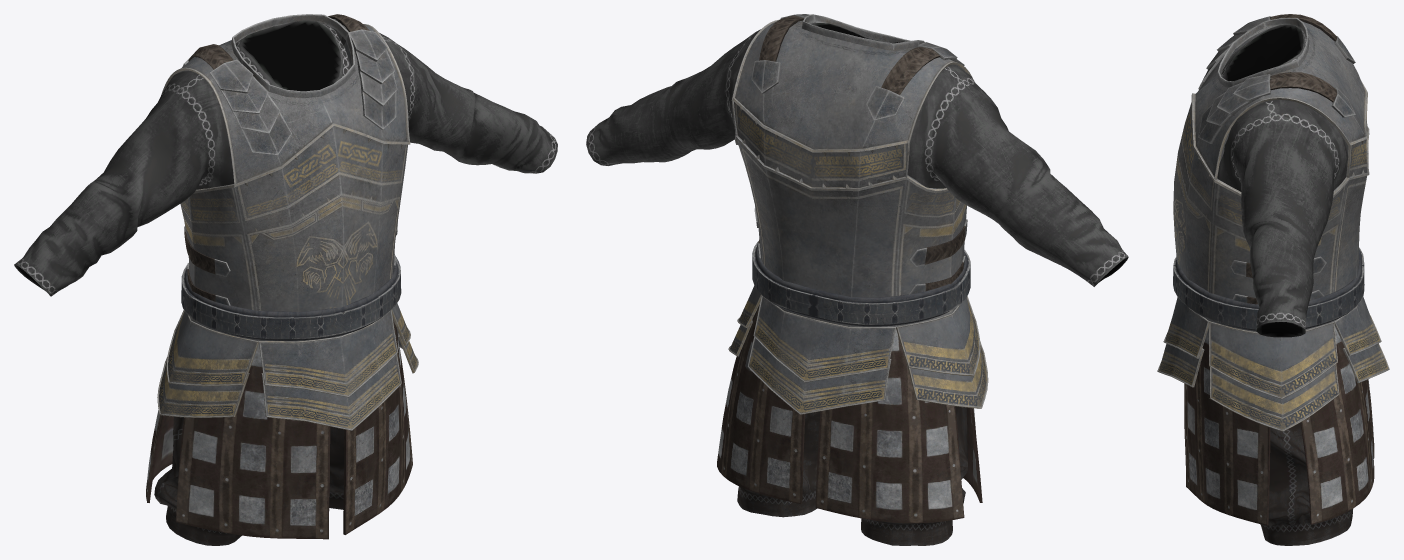
The model's file is sk_dwarf_erebor_chest_plate_elite_f2.fbx.
The picture shows the model from 3 angles, left to right: view 1: azimuth 30°, elevation 25°; view 2: azimuth 150°, elevation 25°; view 3: azimuth 270°, elevation 25°; orthographic projection. The views are drawn at different scales.
Parts seen in each view (by area): view 1: sk_dwarf_erebor_chest_plate_elite_f2.3, sk_dwarf_erebor_chest_plate_elite_f2.0, sk_dwarf_erebor_chest_plate_elite_f2.2, sk_dwarf_erebor_chest_plate_elite_f2.1; view 2: sk_dwarf_erebor_chest_plate_elite_f2.3, sk_dwarf_erebor_chest_plate_elite_f2.0, sk_dwarf_erebor_chest_plate_elite_f2.2, sk_dwarf_erebor_chest_plate_elite_f2.1; view 3: sk_dwarf_erebor_chest_plate_elite_f2.3, sk_dwarf_erebor_chest_plate_elite_f2.0, sk_dwarf_erebor_chest_plate_elite_f2.2, sk_dwarf_erebor_chest_plate_elite_f2.1.
Part boxes in pixels (x1,y1,x2,y2): sk_dwarf_erebor_chest_plate_elite_f2.3: [157, 14, 418, 430]; sk_dwarf_erebor_chest_plate_elite_f2.0: [14, 20, 557, 539]; sk_dwarf_erebor_chest_plate_elite_f2.2: [182, 14, 397, 305]; sk_dwarf_erebor_chest_plate_elite_f2.1: [154, 416, 344, 545]; sk_dwarf_erebor_chest_plate_elite_f2.3: [728, 14, 988, 414]; sk_dwarf_erebor_chest_plate_elite_f2.0: [586, 23, 1128, 523]; sk_dwarf_erebor_chest_plate_elite_f2.2: [751, 14, 967, 294]; sk_dwarf_erebor_chest_plate_elite_f2.1: [737, 406, 967, 545]; sk_dwarf_erebor_chest_plate_elite_f2.3: [1157, 18, 1389, 431]; sk_dwarf_erebor_chest_plate_elite_f2.0: [1184, 24, 1374, 525]; sk_dwarf_erebor_chest_plate_elite_f2.2: [1198, 14, 1355, 304]; sk_dwarf_erebor_chest_plate_elite_f2.1: [1260, 423, 1352, 545].
Bounding box in the file's own units: 1.17 × 0.4648 × 1.03.
Materials: 4 (4 with a texture image).
